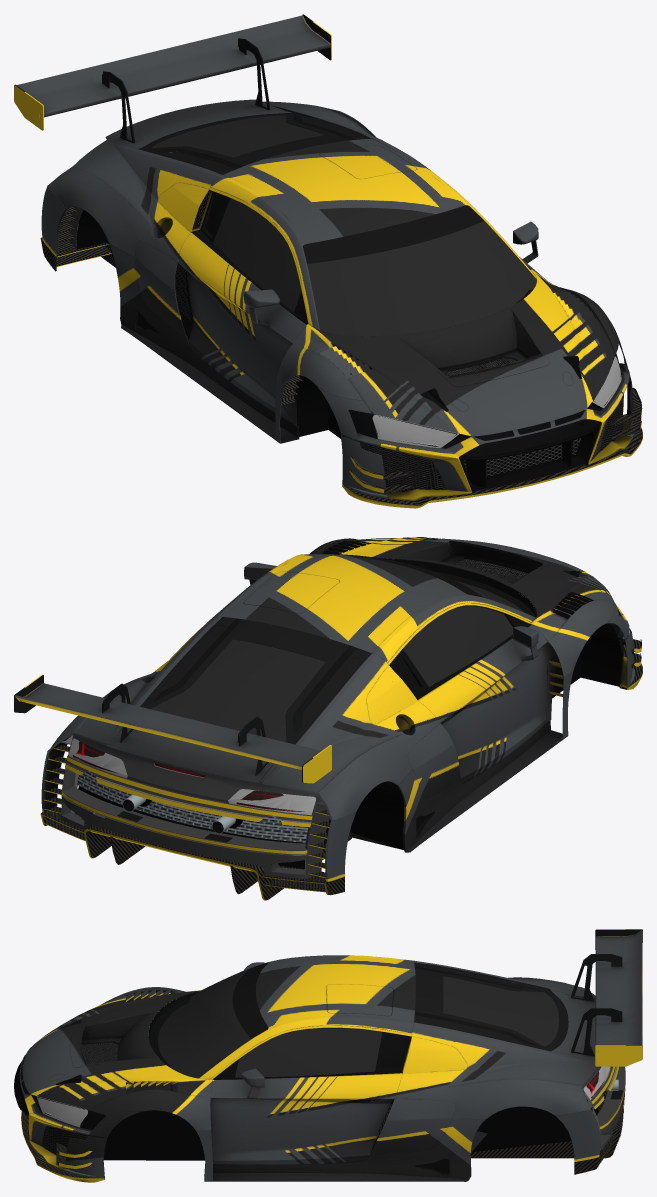
Rendered from New Car.fbx.
3 views of the same model, one above another, from view 1: azimuth 30°, elevation 25°; view 2: azimuth 150°, elevation 25°; view 3: azimuth 270°, elevation 25° (orthographic). The views are drawn at different scales.
Parts seen in each view (by area): view 1: group2_model_6_Mesh, light_glass; view 2: group2_model_6_Mesh, light_glass; view 3: group2_model_6_Mesh, light_glass.
Part boxes in pixels (left/top/right/bottom): group2_model_6_Mesh: left=14, top=14, right=642, bottom=508; light_glass: left=372, top=356, right=621, bottom=447; group2_model_6_Mesh: left=14, top=537, right=642, bottom=900; light_glass: left=69, top=738, right=315, bottom=814; group2_model_6_Mesh: left=14, top=929, right=642, bottom=1182; light_glass: left=37, top=1066, right=610, bottom=1127.
Bounding box in the file's own units: 277 × 160 × 629.
